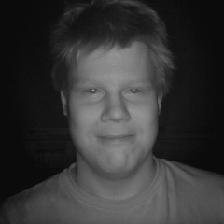happy: (51, 8, 180, 180)
